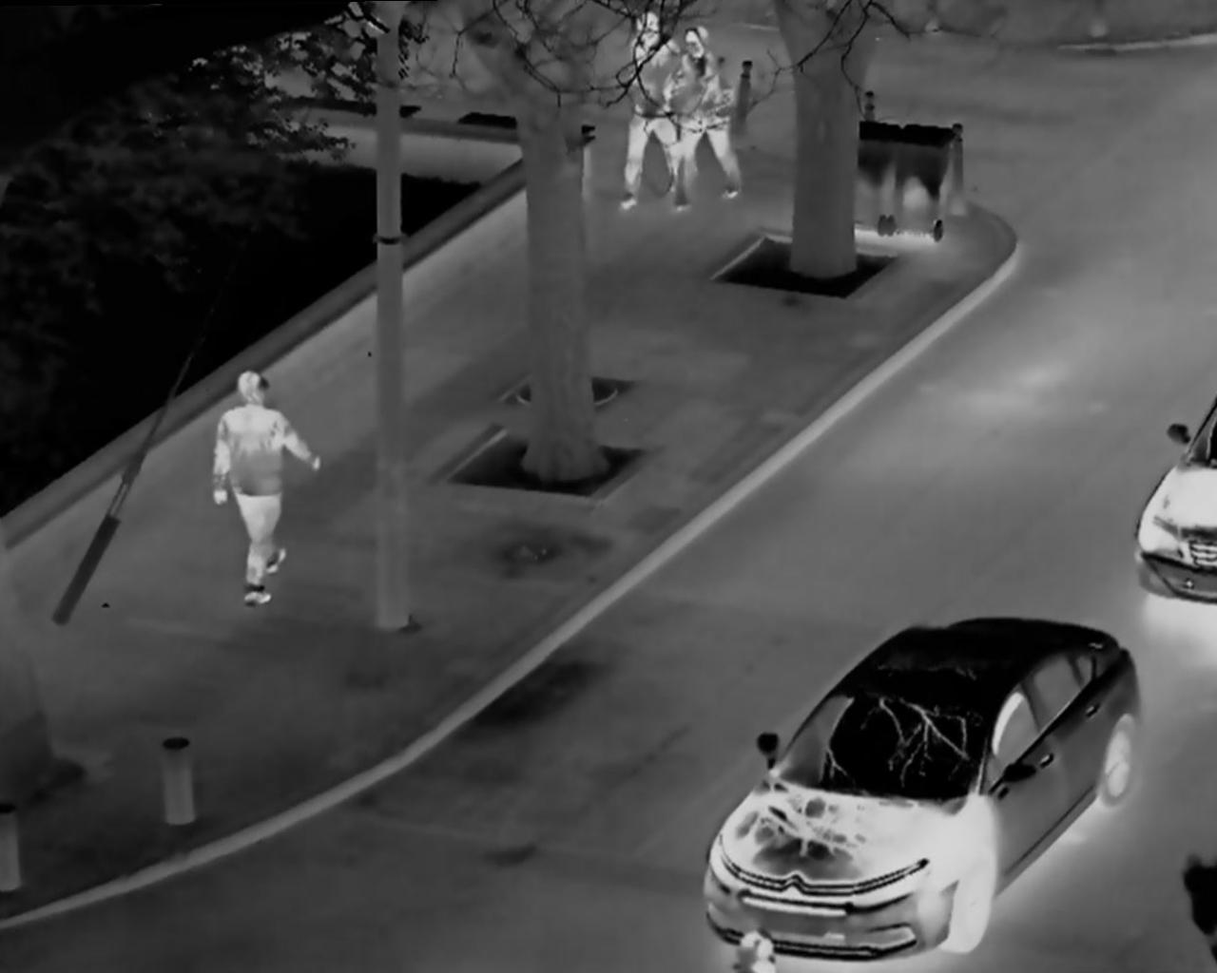person: (204, 360, 321, 607), (618, 6, 700, 207), (677, 21, 753, 206)
